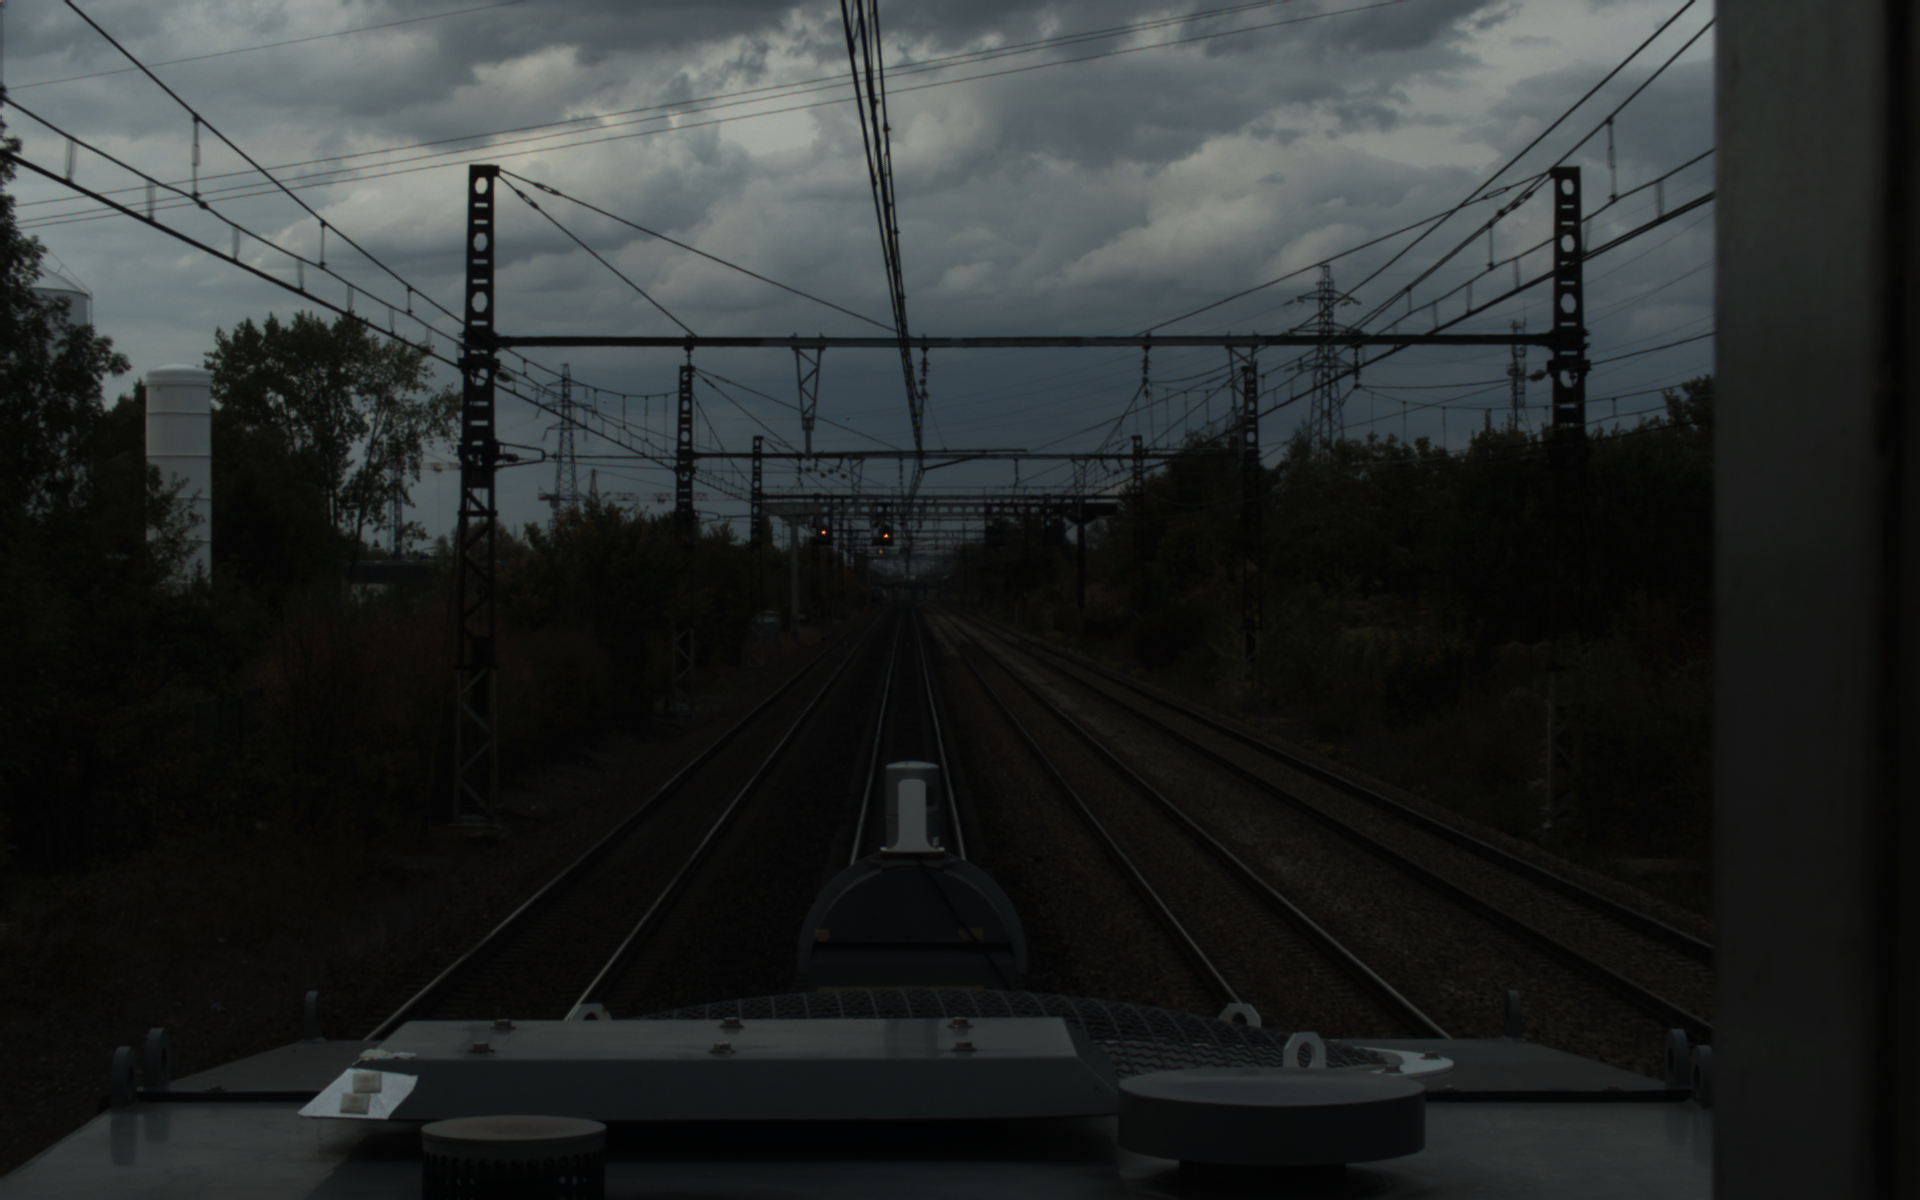Blinking: (878, 523, 892, 542)
Fixed: (817, 523, 829, 541)
